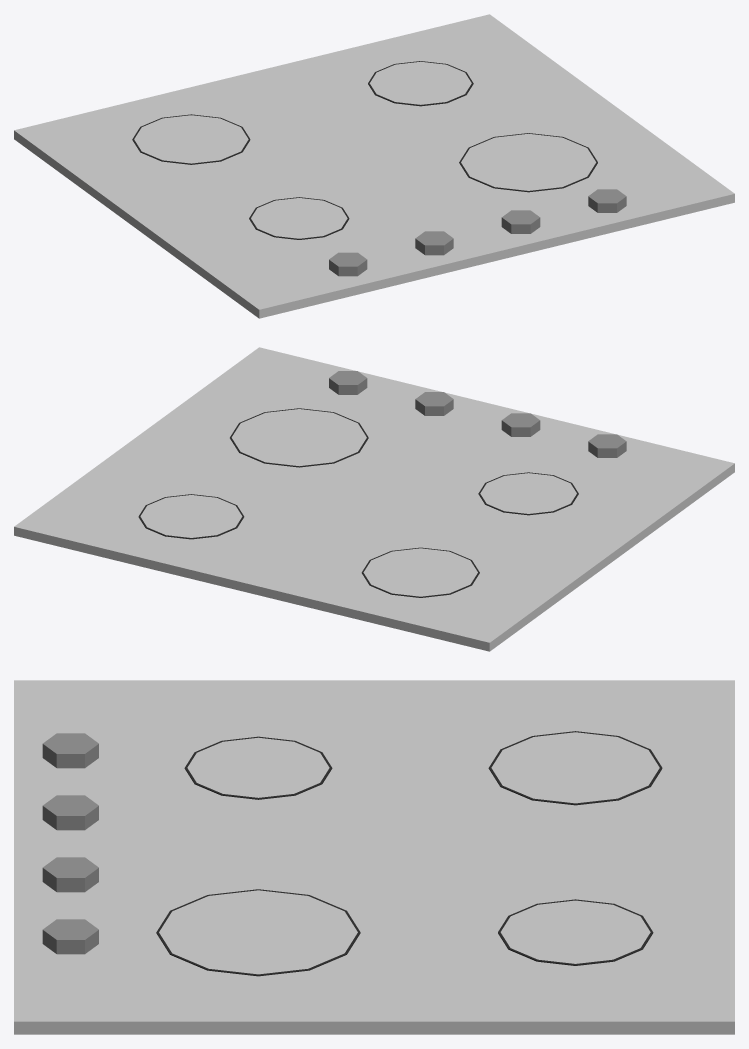
Rendered from Hob2_C2.fbx.
3 renders of one model, top to bottom at view 1: azimuth 30°, elevation 25°; view 2: azimuth 150°, elevation 25°; view 3: azimuth 270°, elevation 25°, orthographic. The views are drawn at different scales.
Visible parts, largest first — view 1: Hob2_C2; view 2: Hob2_C2; view 3: Hob2_C2.
Boxes of the visible parts, <box> form: Hob2_C2: <box>14,14,734,318</box>; Hob2_C2: <box>14,347,734,651</box>; Hob2_C2: <box>14,680,734,1034</box>.
Size of the model in its own units: 56 by 2.1 by 50.
